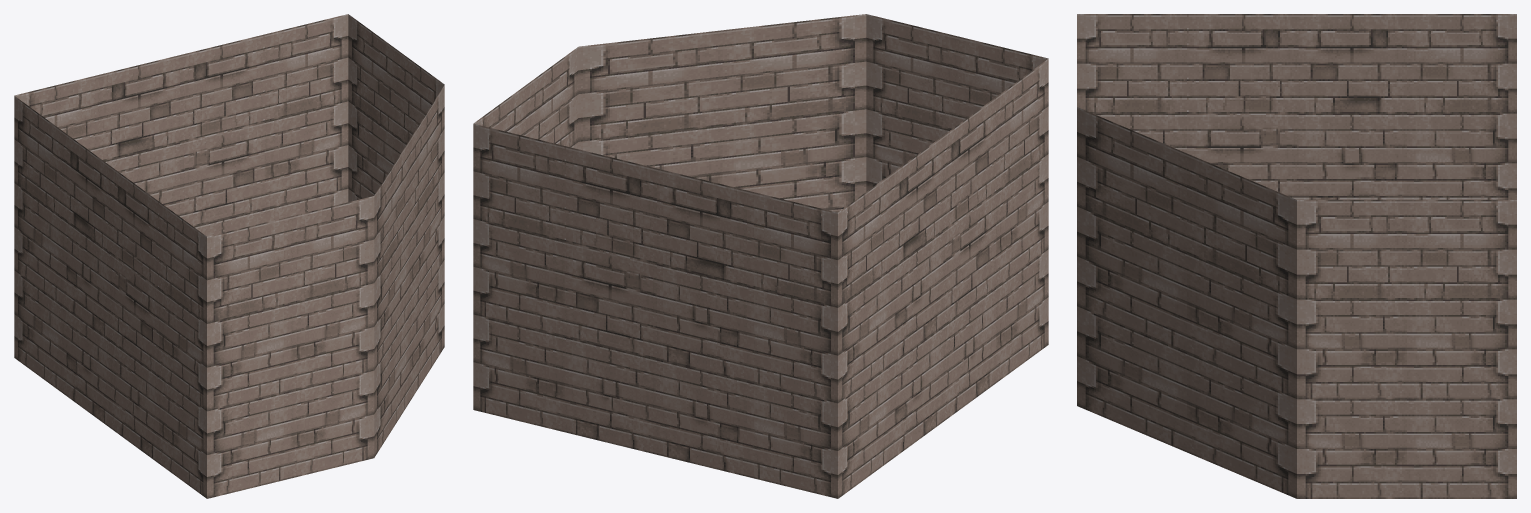
Rendered from stone_square_cornered.glb.
The picture shows the model from 3 angles, left to right: view 1: azimuth 30°, elevation 25°; view 2: azimuth 150°, elevation 25°; view 3: azimuth 270°, elevation 25°; orthographic projection. The views are drawn at different scales.
Visible parts, largest first — view 1: stone_square_cornered; view 2: stone_square_cornered; view 3: stone_square_cornered.
Part boxes in pixels (box(x1,y1,x2,y2)): stone_square_cornered: box(14, 14, 444, 498); stone_square_cornered: box(473, 14, 1048, 498); stone_square_cornered: box(1077, 14, 1516, 498).
Bounding box in the file's own units: 4 × 3 × 4.
1 material, 1 textured.
